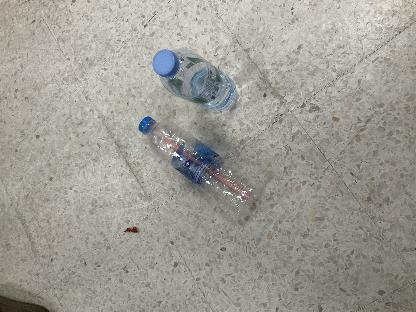Plastic Bottle: (139, 116, 261, 221), (154, 50, 238, 110)
